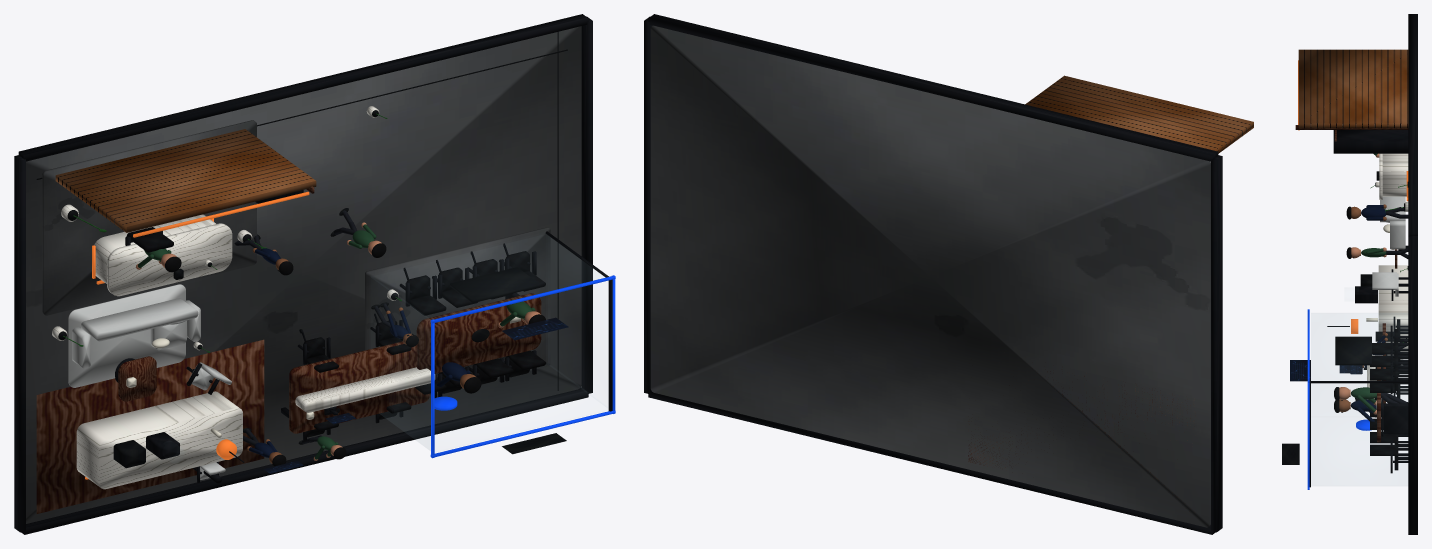
3 views of the same model, side by side, from view 1: azimuth 30°, elevation 25°; view 2: azimuth 150°, elevation 25°; view 3: azimuth 270°, elevation 25° (orthographic). The views are drawn at different scales.
Visible parts, largest first — view 1: office_concrete_floor, back_wall_base, wood_floor_cafe, reception_floor, pantry_island, room_floor, back_boundary, front_boundary, desk_cluster_top, meeting_top, curved_reception_desk_top, blue_rug (+14 smaller); view 2: office_concrete_floor, back_wall_base, back_boundary, left_boundary, front_boundary, right_boundary; view 3: back_wall_base, right_boundary, back_boundary, shelf_frame, pantry_island, curved_reception_desk_base, tv_wall_frame, meeting_leg, sofa_arm_r, round_lounge_chair_back, room_label, sofa_back (+18 smaller).
Boxes of the visible parts, x1,y1,x2,y2 form: office_concrete_floor: (26, 26, 581, 523); back_wall_base: (55, 129, 316, 232); wood_floor_cafe: (36, 339, 264, 513); reception_floor: (42, 120, 256, 315); pantry_island: (76, 391, 242, 489); room_floor: (365, 227, 550, 395); back_boundary: (18, 14, 588, 161); front_boundary: (21, 387, 588, 534); desk_cluster_top: (289, 341, 429, 433); meeting_top: (416, 293, 541, 373); curved_reception_desk_top: (107, 223, 232, 296); blue_rug: (68, 284, 185, 387); office_concrete_floor: (650, 25, 1210, 527); back_wall_base: (1025, 75, 1253, 153); back_boundary: (648, 14, 1218, 161); left_boundary: (1211, 155, 1222, 532); front_boundary: (648, 390, 1215, 534); right_boundary: (644, 16, 652, 393); back_wall_base: (1298, 49, 1408, 128); right_boundary: (1408, 236, 1417, 533); back_boundary: (1408, 14, 1417, 235); shelf_frame: (1333, 130, 1408, 153); pantry_island: (1378, 265, 1408, 355); curved_reception_desk_base: (1382, 153, 1408, 196); tv_wall_frame: (1335, 336, 1371, 365); meeting_leg: (1383, 403, 1408, 434); sofa_arm_r: (1390, 221, 1405, 249); round_lounge_chair_back: (1372, 272, 1396, 289); room_label: (1290, 360, 1310, 381); sofa_back: (1380, 196, 1405, 222).
Size of the model in its own units: 12.08 by 7.64 by 3.11.
Materials: 25 (25 with a texture image).
